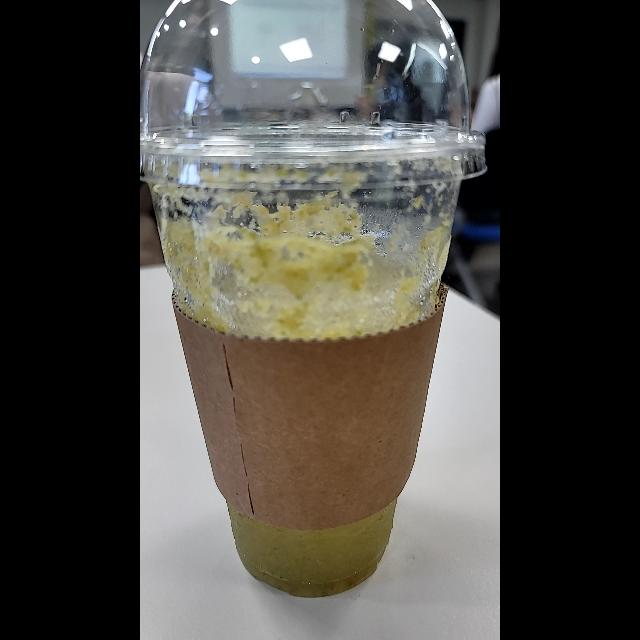plastic_cup: (140, 0, 490, 606)
plastic_cup_lid: (140, 0, 500, 190)
